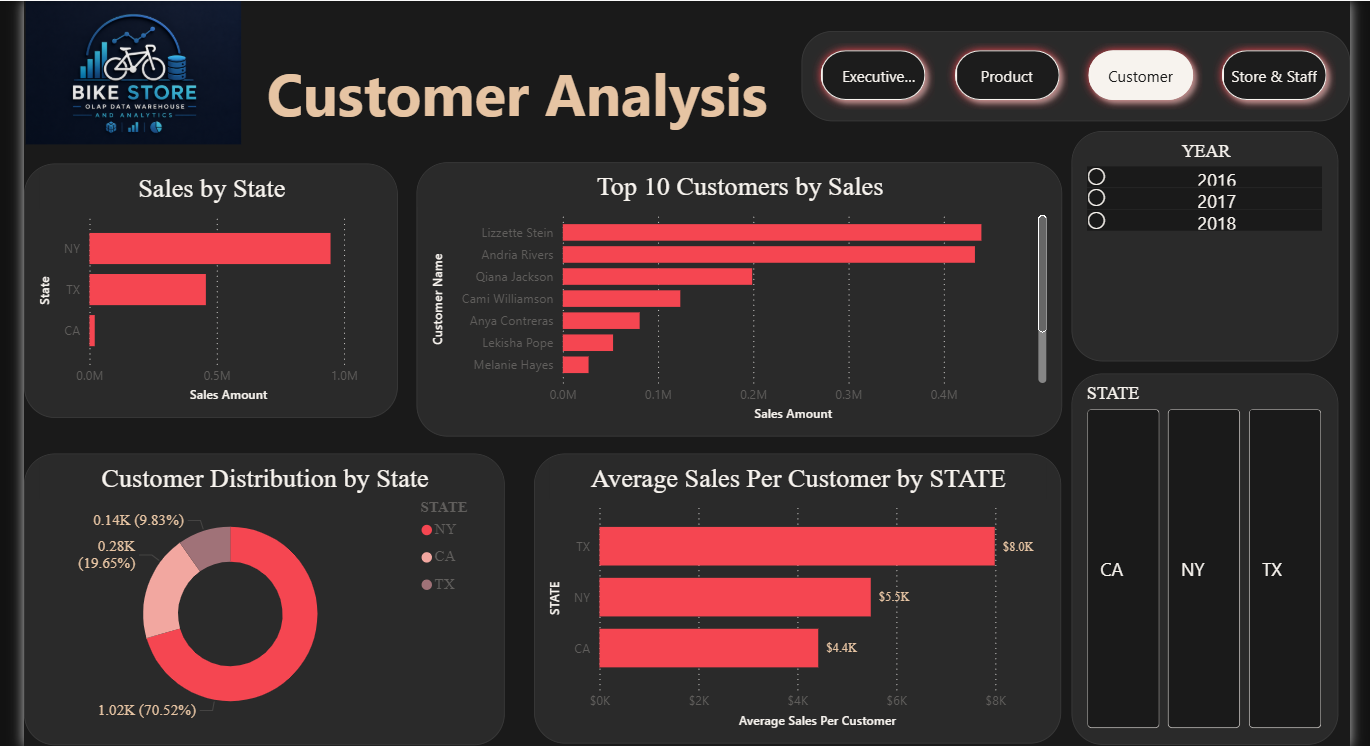

The page's visual inventory and layout, read from the dashboard file:
{"tool":"powerbi","page":{"name":"Customers","canvas":[1280,720],"ordinal":2},"visuals":[{"type":"image","box":[0,0,211.3,138.6],"z":0},{"type":"textbox","box":[219.5,0,530.2,92.7],"z":1000},{"type":"clusteredBarChart","title":"Sales by State","fields":{"Category":["DIM_CUSTOMERS.STATE"],"Y":["Sum(FACT_SALES.SALES_AMOUNT)"]},"box":[0,148.2,447.6,273.7],"z":2000},{"type":"donutChart","title":"Customer Distribution by State","fields":{"Category":["DIM_CUSTOMERS.STATE"],"Y":["CountNonNull(DIM_CUSTOMERS.STATE)"]},"box":[0,436.4,463.8,281.3],"z":3000},{"type":"clusteredBarChart","fields":{"Y":["FACT_SALES.Average Sales Per Customer"],"Category":["DIM_CUSTOMERS.STATE"]},"box":[492.6,436.4,509.1,279.9],"z":4000},{"type":"listSlicer","fields":{"Values":["DIM_DATE.YEAR"]},"box":[1011.3,124.9,258,222.3],"z":5000},{"type":"advancedSlicerVisual","fields":{"Values":["DIM_CUSTOMERS.STATE"]},"box":[1011.3,359.5,258,358.1],"z":6000},{"type":"pageNavigator","box":[749.8,5.7,530.2,86.9],"z":7000},{"type":"clusteredBarChart","fields":{"Category":["DIM_CUSTOMERS.FULL_NAME"],"Y":["Sum(FACT_SALES.SALES_AMOUNT)"]},"box":[474.7,138.3,517.4,283.7],"z":8000}]}

Visuals, with their boxes on the page's 1280x720 design canvas (x1, y1, x2, y2). These are canvas units, not pixel positions in the 1370x746 screenshot, which may show the page scaled, cropped or inside an application window:
image: Rect(0, 0, 211, 139)
textbox: Rect(220, 0, 750, 93)
"Sales by State" clusteredBarChart: Rect(0, 148, 448, 422)
"Customer Distribution by State" donutChart: Rect(0, 436, 464, 718)
clusteredBarChart - FACT_SALES.Average Sales Per Customer x DIM_CUSTOMERS.STATE: Rect(493, 436, 1002, 716)
listSlicer - DIM_DATE.YEAR: Rect(1011, 125, 1269, 347)
advancedSlicerVisual - DIM_CUSTOMERS.STATE: Rect(1011, 360, 1269, 718)
pageNavigator: Rect(750, 6, 1280, 93)
clusteredBarChart - DIM_CUSTOMERS.FULL_NAME x Sum(FACT_SALES.SALES_AMOUNT): Rect(475, 138, 992, 422)
